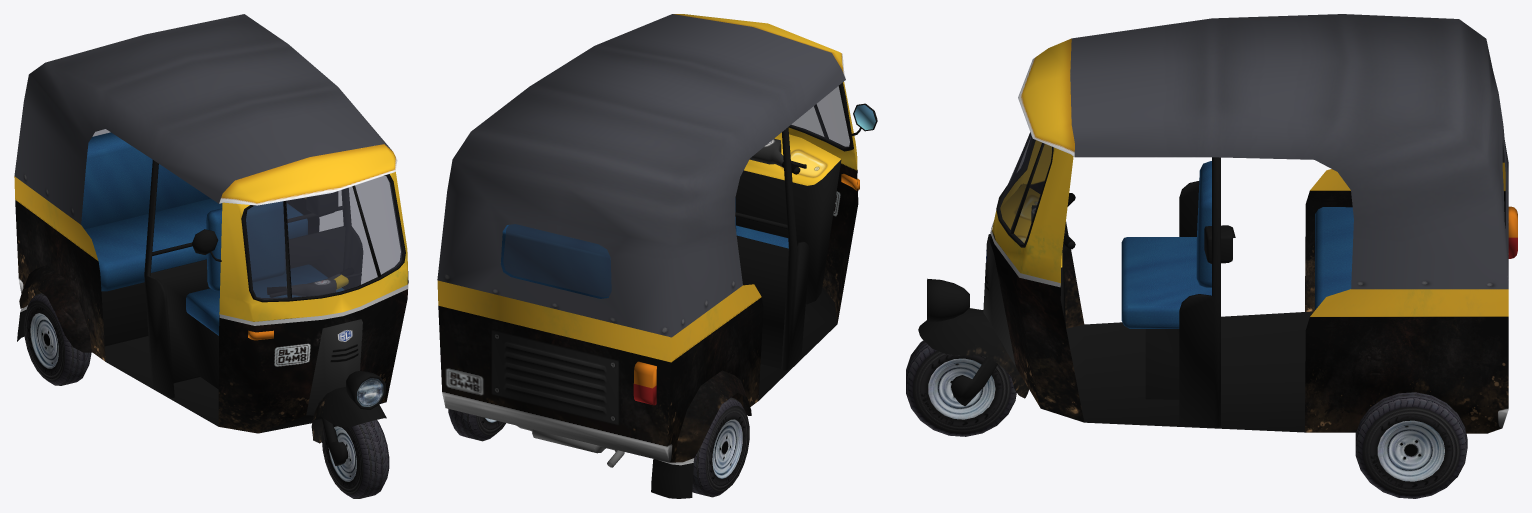
The model's file is tuktuk.glb.
3 views of the same model, side by side, from view 1: azimuth 30°, elevation 25°; view 2: azimuth 150°, elevation 25°; view 3: azimuth 270°, elevation 25° (orthographic). The views are drawn at different scales.
Visible parts, largest first — view 1: Car, FL_2, RL_2; view 2: Car, RL_2, RR_2; view 3: Car, RR_2, FL_2.
Boxes of the visible parts, x1,y1,x2,y2 form: Car: (14, 14, 408, 465); FL_2: (322, 420, 389, 498); RL_2: (23, 293, 91, 385); Car: (437, 14, 877, 498); RL_2: (692, 397, 749, 497); RR_2: (448, 409, 505, 441); Car: (918, 14, 1517, 433); RR_2: (1355, 392, 1467, 498); FL_2: (906, 340, 1016, 436).
Bounding box in the file's own units: 1.75 × 2.14 × 3.2.
4 materials, 3 textured.
